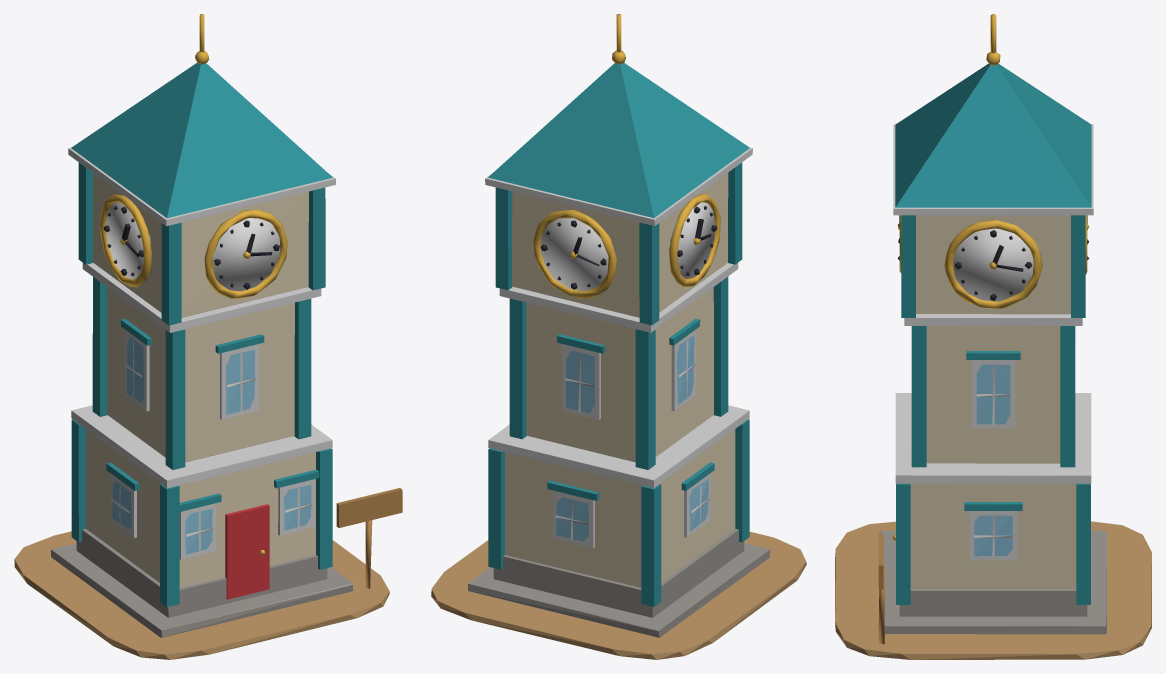
The model's file is clock-tower-lod1-4.f2afc2b6.glb.
3 renders of one model, left to right at view 1: azimuth 30°, elevation 25°; view 2: azimuth 150°, elevation 25°; view 3: azimuth 270°, elevation 25°, orthographic. The views are drawn at different scales.
Parts seen in each view (by area): view 1: ClockTower_Stage4__T_vcol; view 2: ClockTower_Stage4__T_vcol; view 3: ClockTower_Stage4__T_vcol.
Boxes of the visible parts, x1,y1,x2,y2 form: ClockTower_Stage4__T_vcol: (14, 14, 402, 659); ClockTower_Stage4__T_vcol: (431, 14, 806, 659); ClockTower_Stage4__T_vcol: (835, 14, 1151, 659).
Size of the model in its own units: 4.96 by 9.62 by 4.78.
